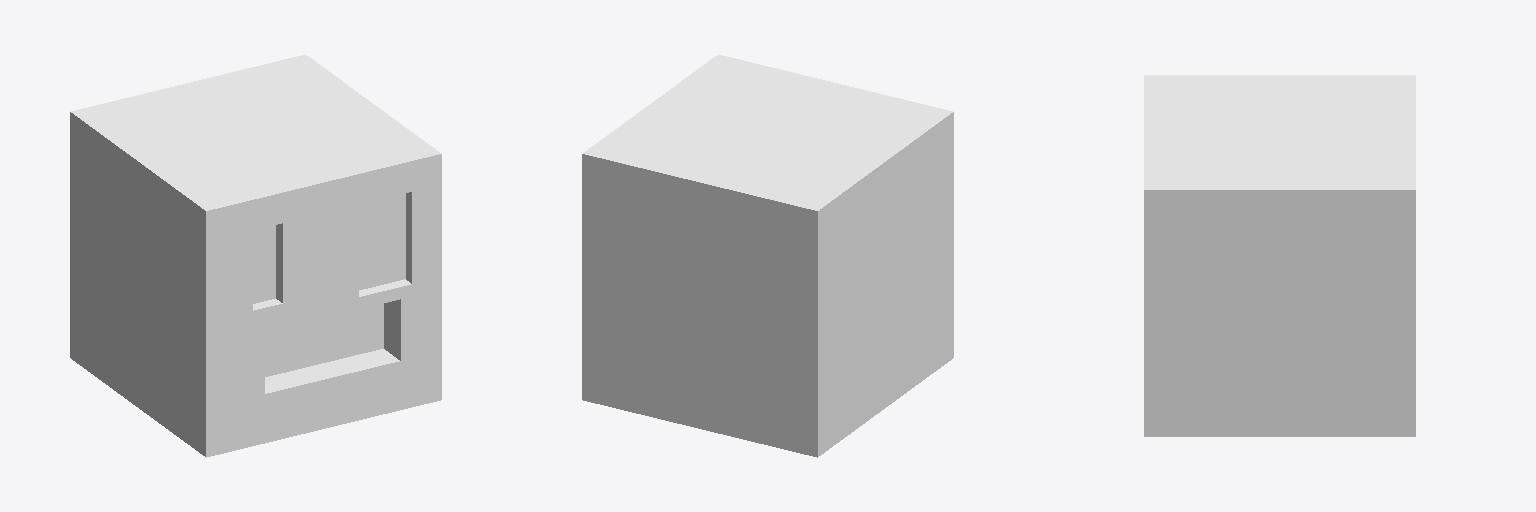
File: Headshiramaz.obj
The picture shows the model from 3 angles: view 1: azimuth 30°, elevation 25°; view 2: azimuth 150°, elevation 25°; view 3: azimuth 270°, elevation 25°; orthographic projection.
Visible parts, largest first — view 1: object 1; view 2: object 1; view 3: object 1.
Boxes of the visible parts, box(x1,y1,x2,y2) form: object 1: box(70, 54, 441, 457); object 1: box(582, 54, 953, 457); object 1: box(1144, 75, 1415, 436).
Bounding box in the file's own units: 4 × 4 × 4.